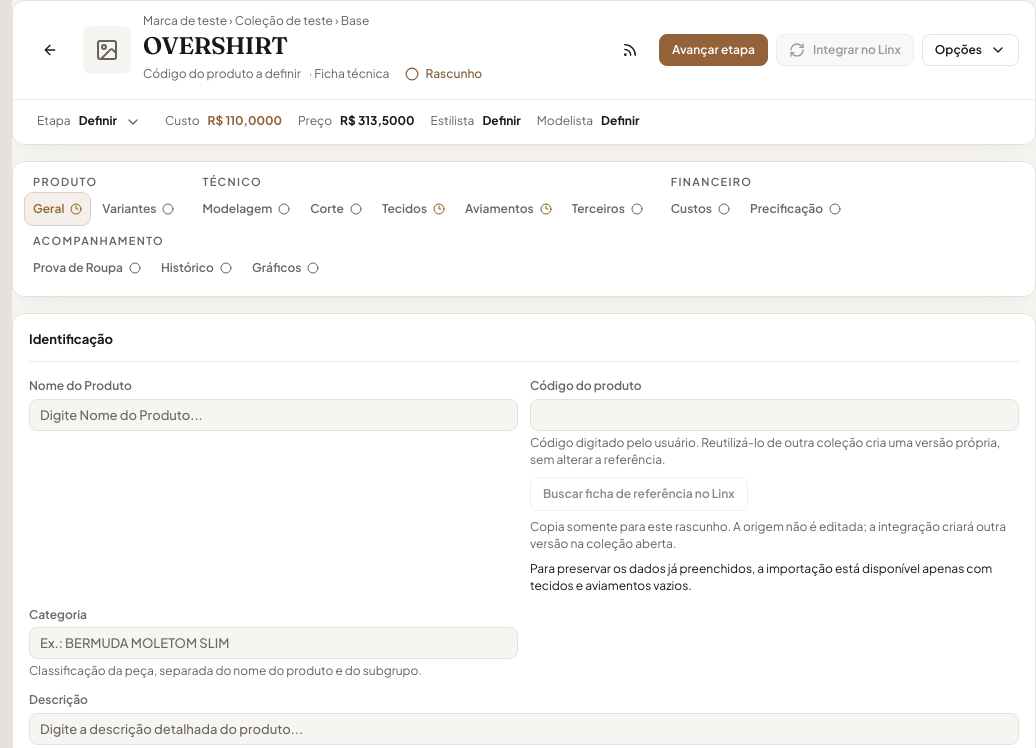
Test: Ficha sem botão de salvar › falha ao salvar mantém o campo aberto e impede sair pelo botão Voltar
Type "Ainda aberta" into the field labelled "Descrição".
click(524, 729); type("Ainda aberta")  # box [29,713,1019,745]
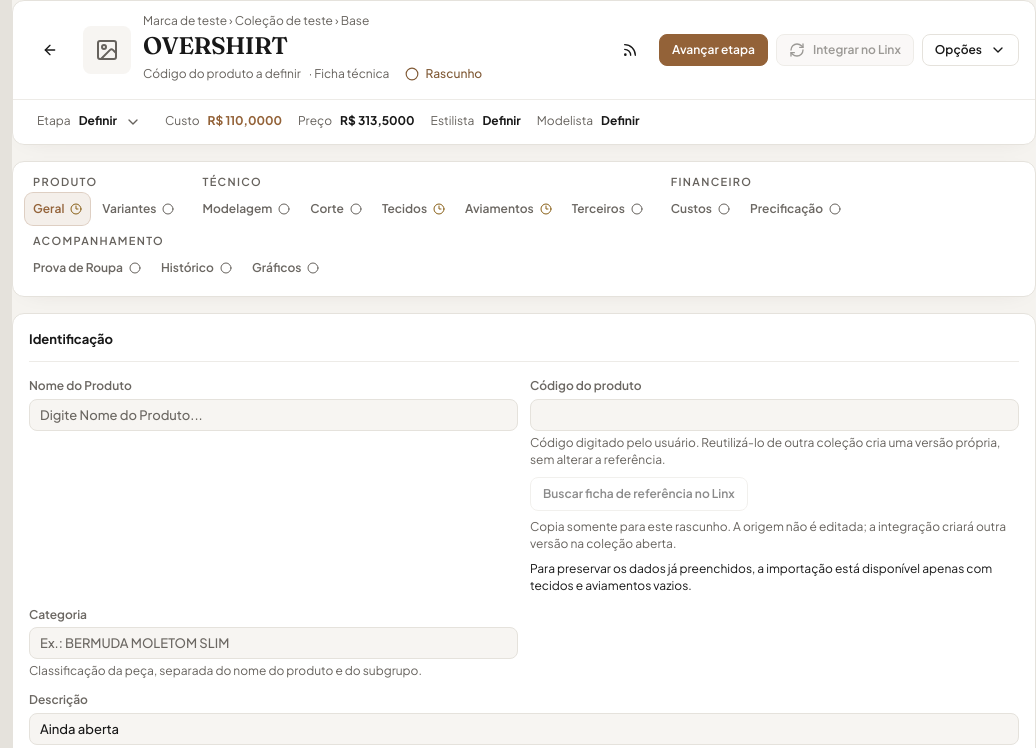
Click the button named "Voltar".
click(50, 50)  # box [29,34,71,66]
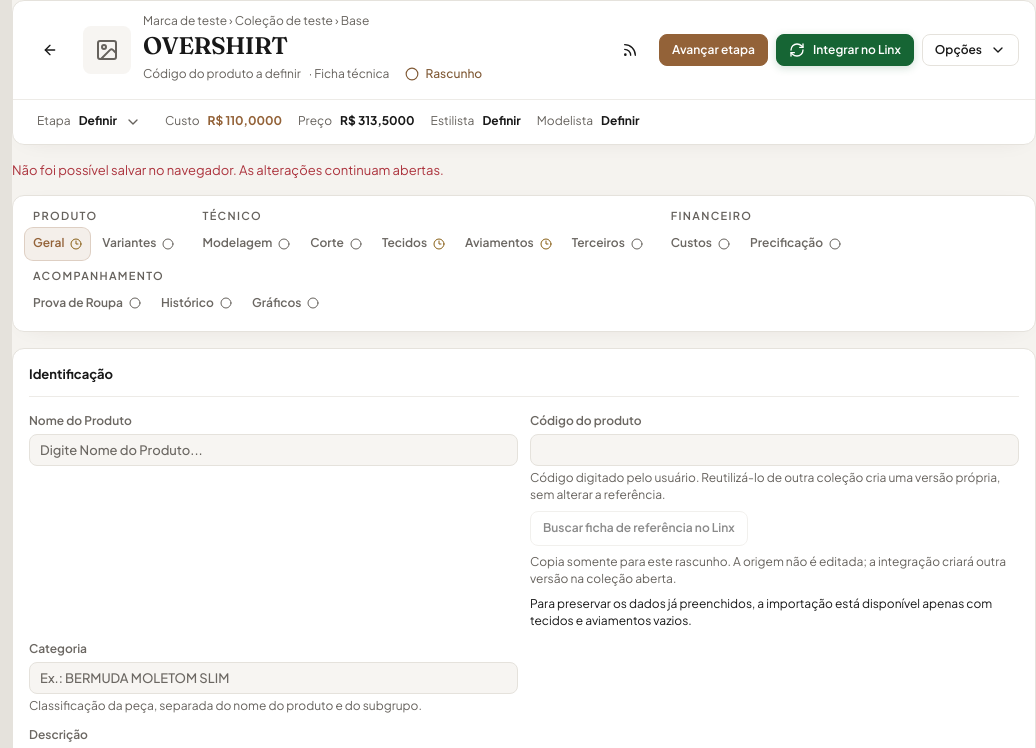
Check: the text "Não foi possível salvar no navegador. As alterações continuam abertas." is shown, box [12,162,444,178]
